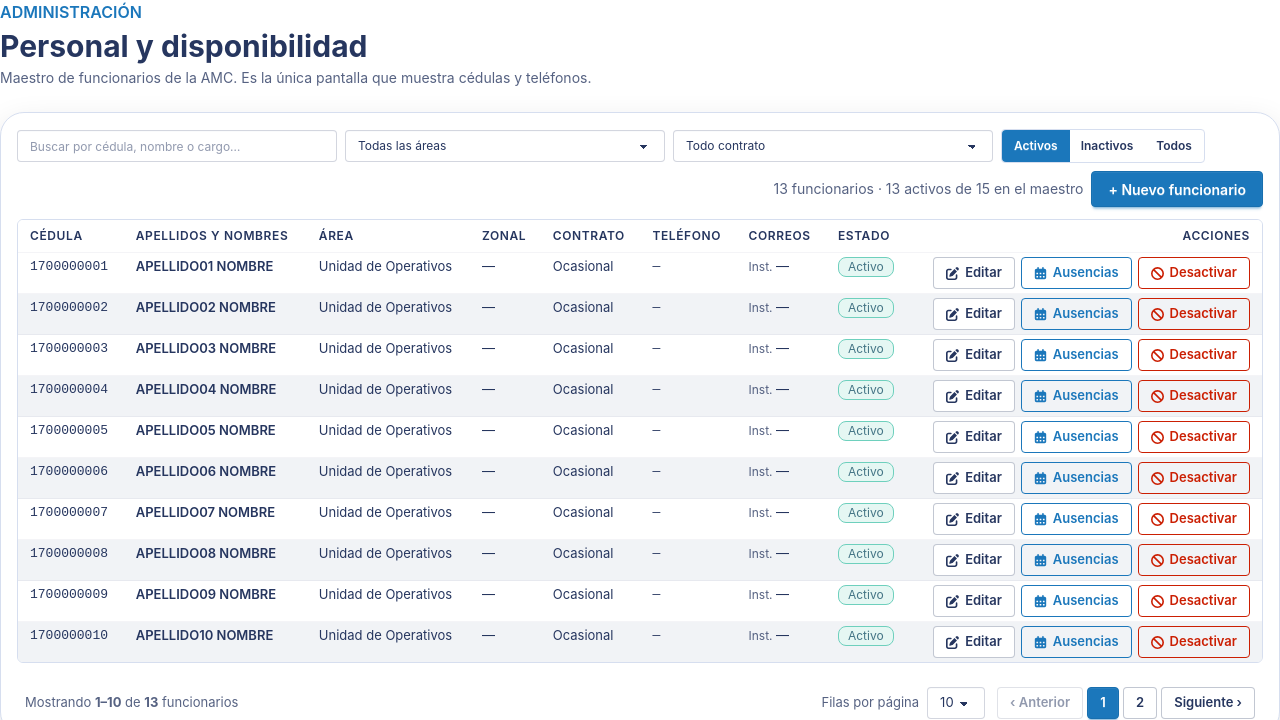
P-07 · tras guardar la ficha › «Guardar cambios» cierra, avisa «Ficha de … actualizada» y resalta la fila
This screenshot has width=1280, height=720.
Expected: the text "13 funcionarios · 13 activos de 15 en el maestro" is shown, x1=773 y1=179 x2=1083 y2=199
Click the button with aria-label "Editar APELLIDO03 NOMBRE": (974, 355) x1=933 y1=339 x2=1015 y2=371
(page scrolled)
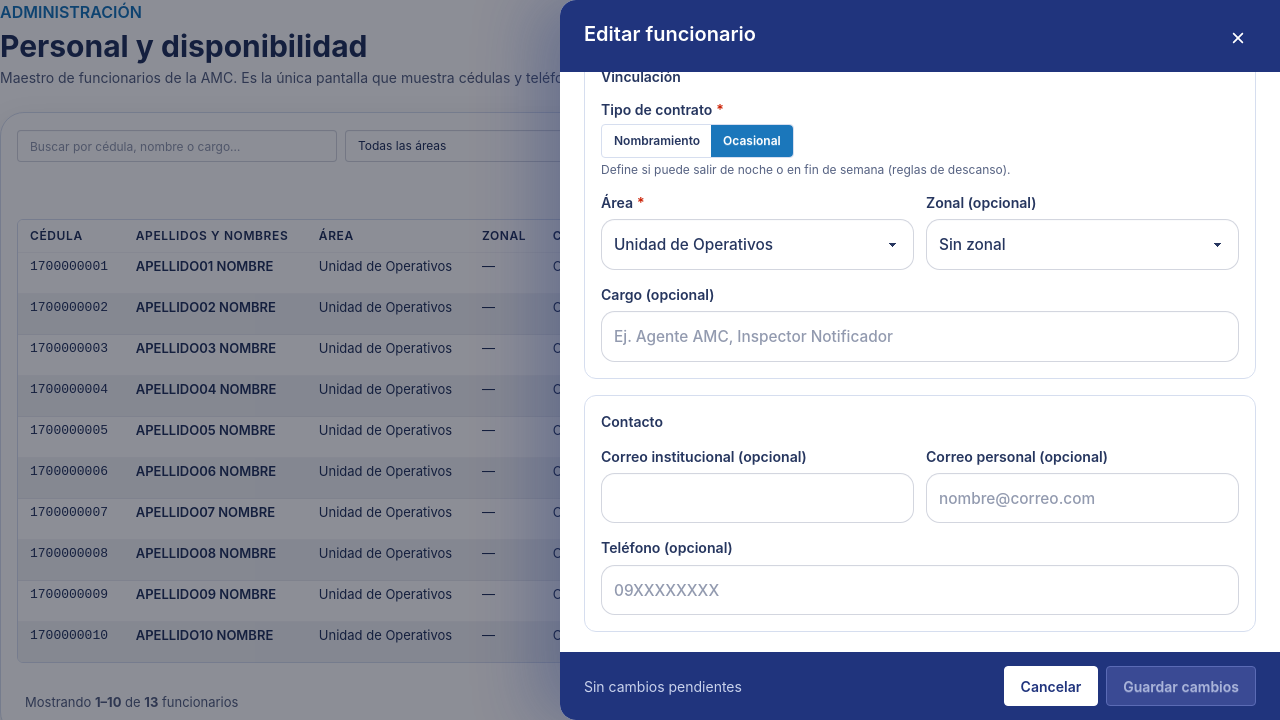
Result: the heading "Editar funcionario" is shown at x1=584 y1=20 x2=756 y2=48
In the field labelled "Correo personal (opcional)": (1082, 498) x1=926 y1=473 x2=1239 y2=523, type "agente03@gmail.com"
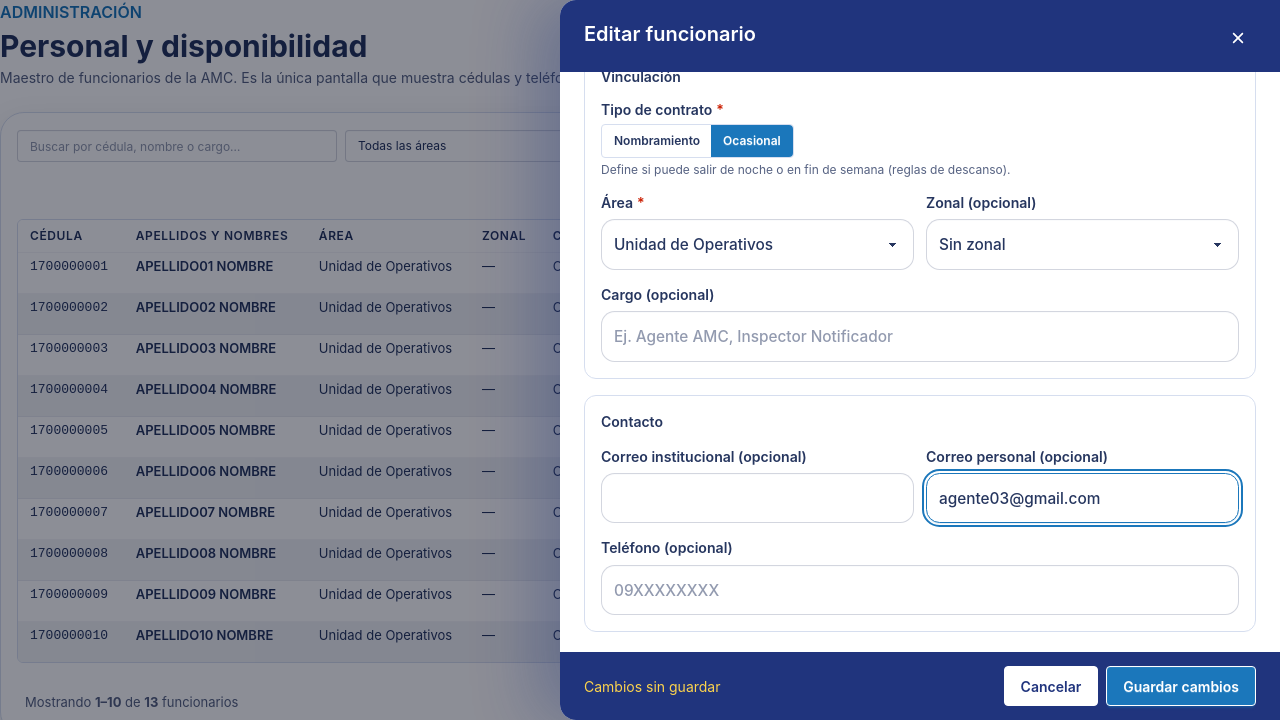
Click the button "Guardar cambios": (1181, 686) x1=1106 y1=666 x2=1256 y2=706
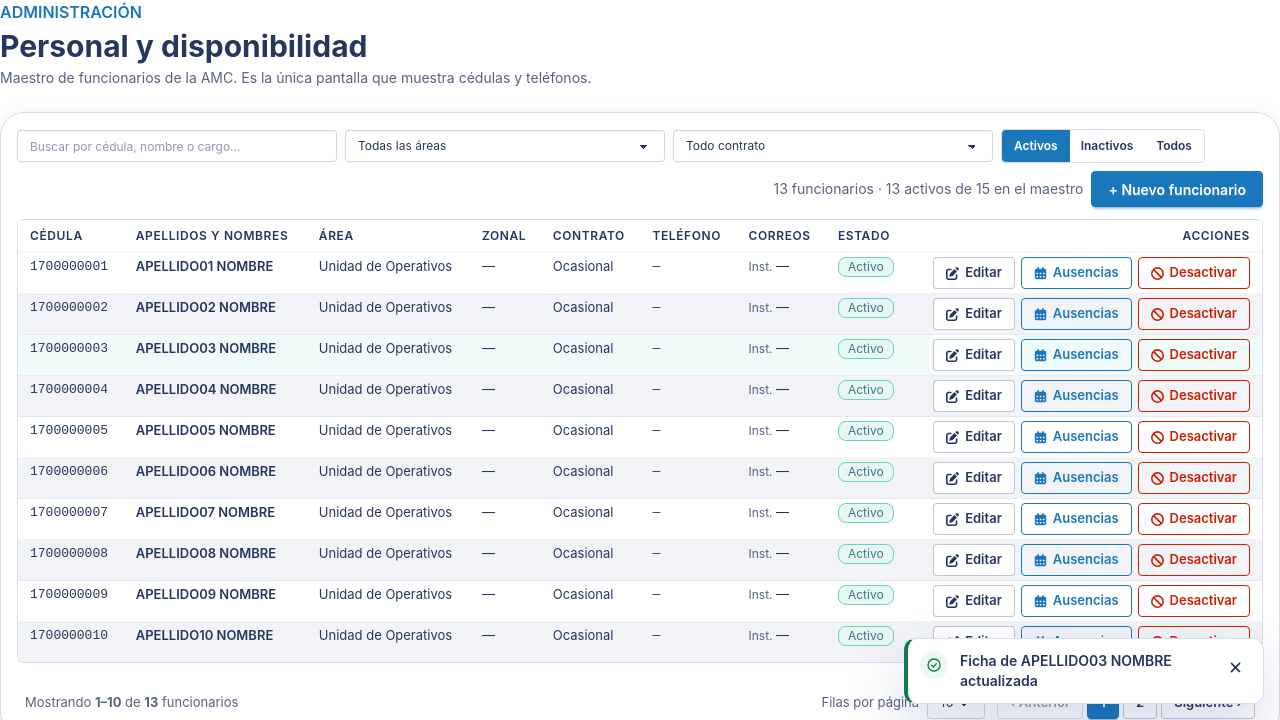
Result: the text "Ficha de APELLIDO03 NOMBRE actualizada" is shown at x1=960 y1=651 x2=1207 y2=691
Result: the heading "Editar funcionario" is gone
